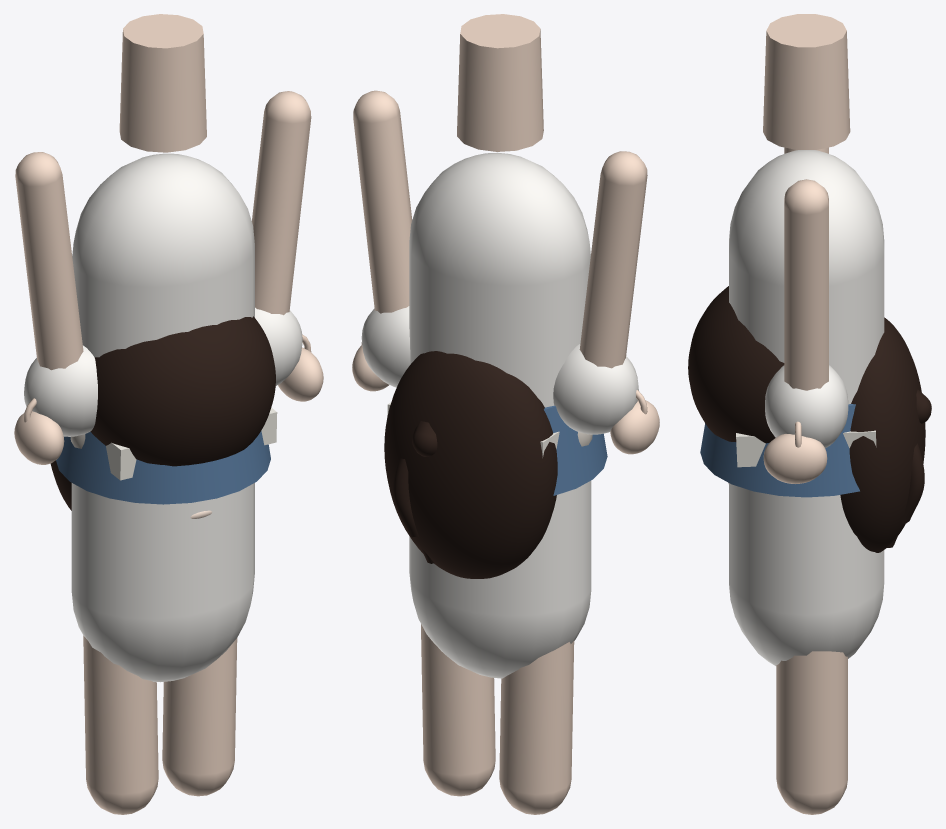
File: junior_2005_hero_closeup.glb
The picture shows the model from 3 angles, left to right: view 1: azimuth 30°, elevation 25°; view 2: azimuth 150°, elevation 25°; view 3: azimuth 270°, elevation 25°; orthographic projection.
Parts seen in each view (by area): view 1: torso_main, neck, hair_cap, shorts_hip, shoe_l; view 2: torso_main, neck, hair_cap, shorts_hip; view 3: torso_main, neck, hair_cap, shorts_hip, shoe_l.
Boxes of the visible parts, bbox=[...] form: torso_main: bbox=[24, 153, 302, 682]; neck: bbox=[14, 14, 323, 814]; hair_cap: bbox=[50, 316, 275, 510]; shorts_hip: bbox=[56, 431, 270, 504]; shoe_l: bbox=[106, 407, 277, 480]; torso_main: bbox=[361, 152, 638, 678]; neck: bbox=[352, 14, 659, 814]; hair_cap: bbox=[384, 351, 557, 578]; shorts_hip: bbox=[544, 405, 607, 495]; torso_main: bbox=[729, 150, 884, 665]; neck: bbox=[763, 14, 850, 814]; hair_cap: bbox=[688, 286, 931, 552]; shorts_hip: bbox=[700, 404, 859, 497]; shoe_l: bbox=[736, 430, 876, 467].
Size of the model in its own units: 19817 by 49279 by 14270.
16 materials, 16 textured.
